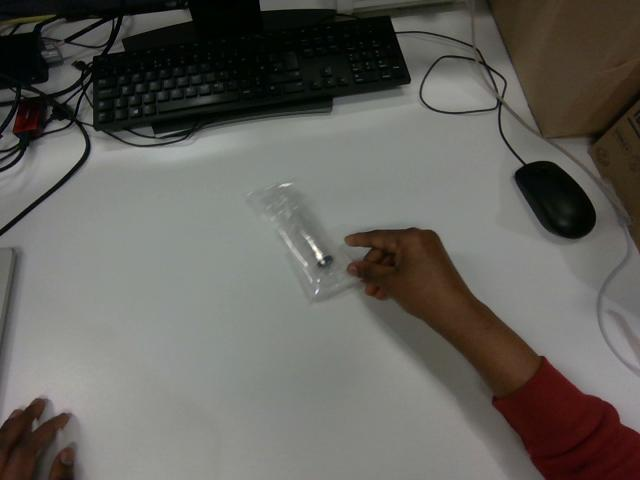syringe: (248, 182, 353, 300)
